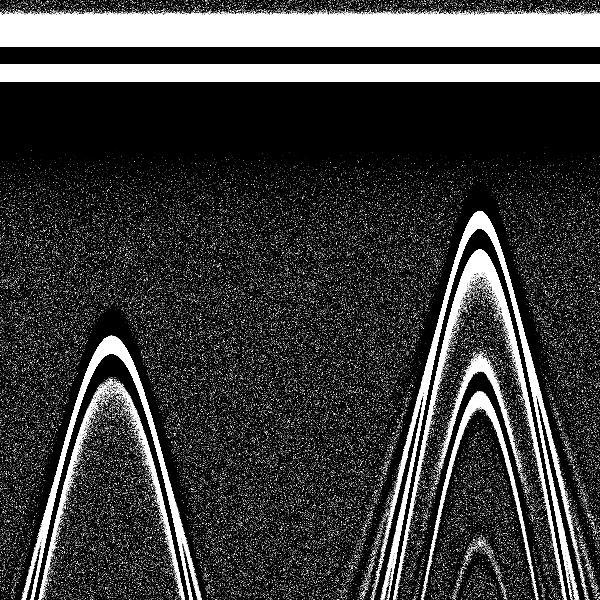pipe: (60, 9, 167, 420), (429, 7, 525, 305)
